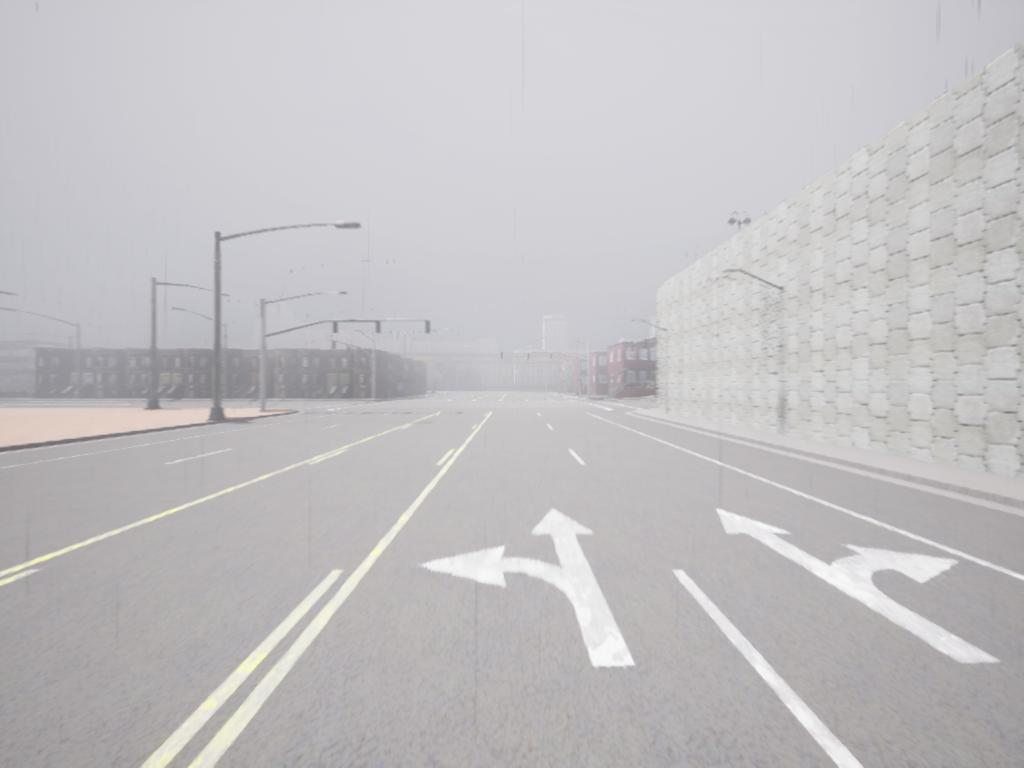traffic_light: (331, 321, 340, 338), (424, 320, 432, 336), (376, 321, 384, 334), (501, 352, 506, 362), (528, 353, 532, 365), (551, 353, 555, 363)
